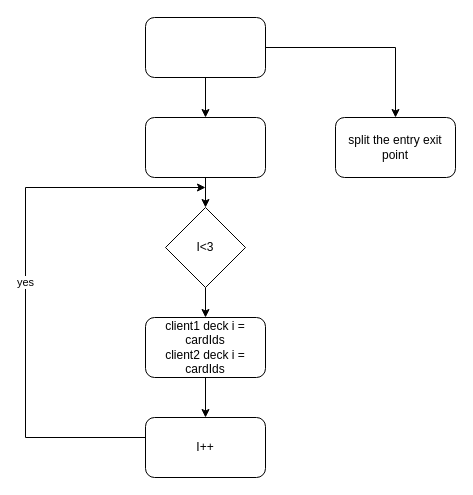
Image size: 473x495. Some labels were removed from this diagram. The shapes that lost their labels are listed below. From the top down, each one's centre as x and y in pixels, then its label:
point (205, 47): Store neccessary Json
point (205, 147): I = 0
